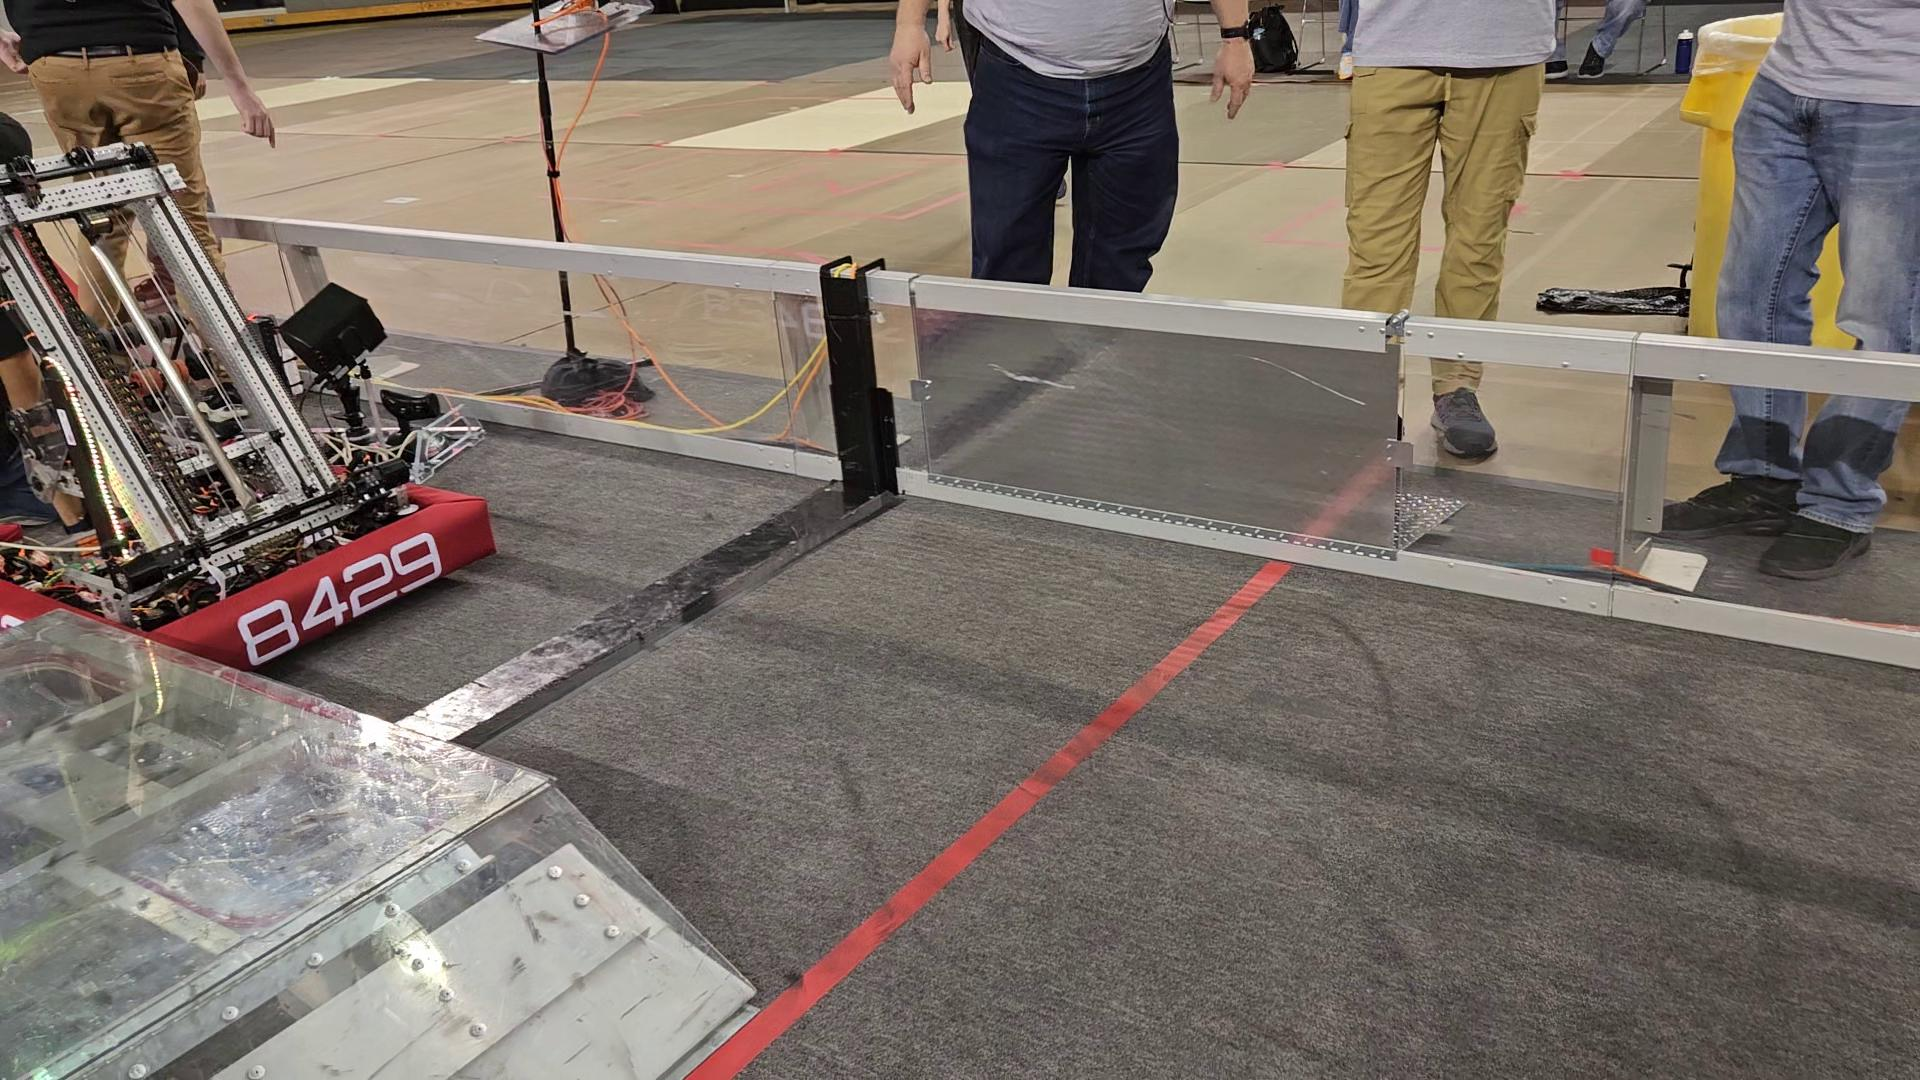robot: (0, 144, 496, 674)
